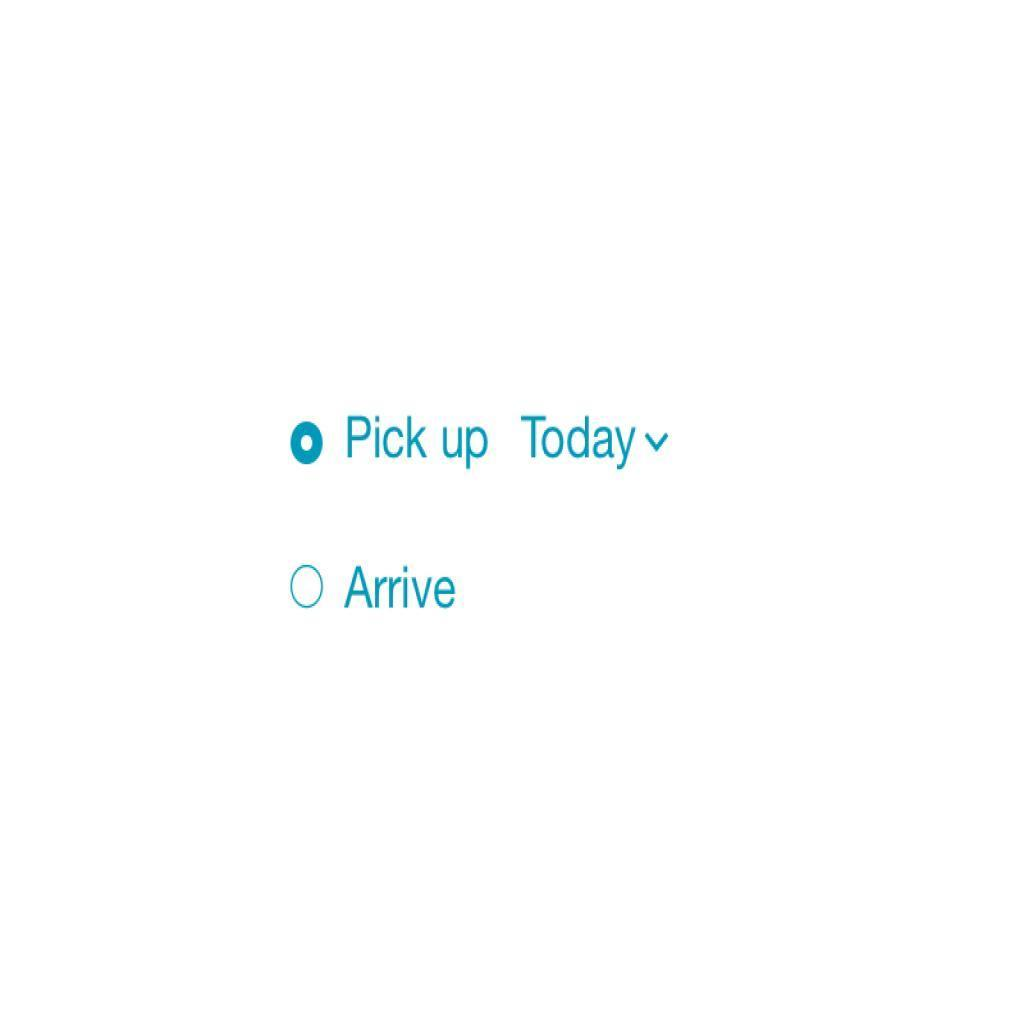label: (342, 407, 679, 473), (337, 558, 462, 616)
radio: (288, 563, 331, 617), (289, 419, 329, 472)
